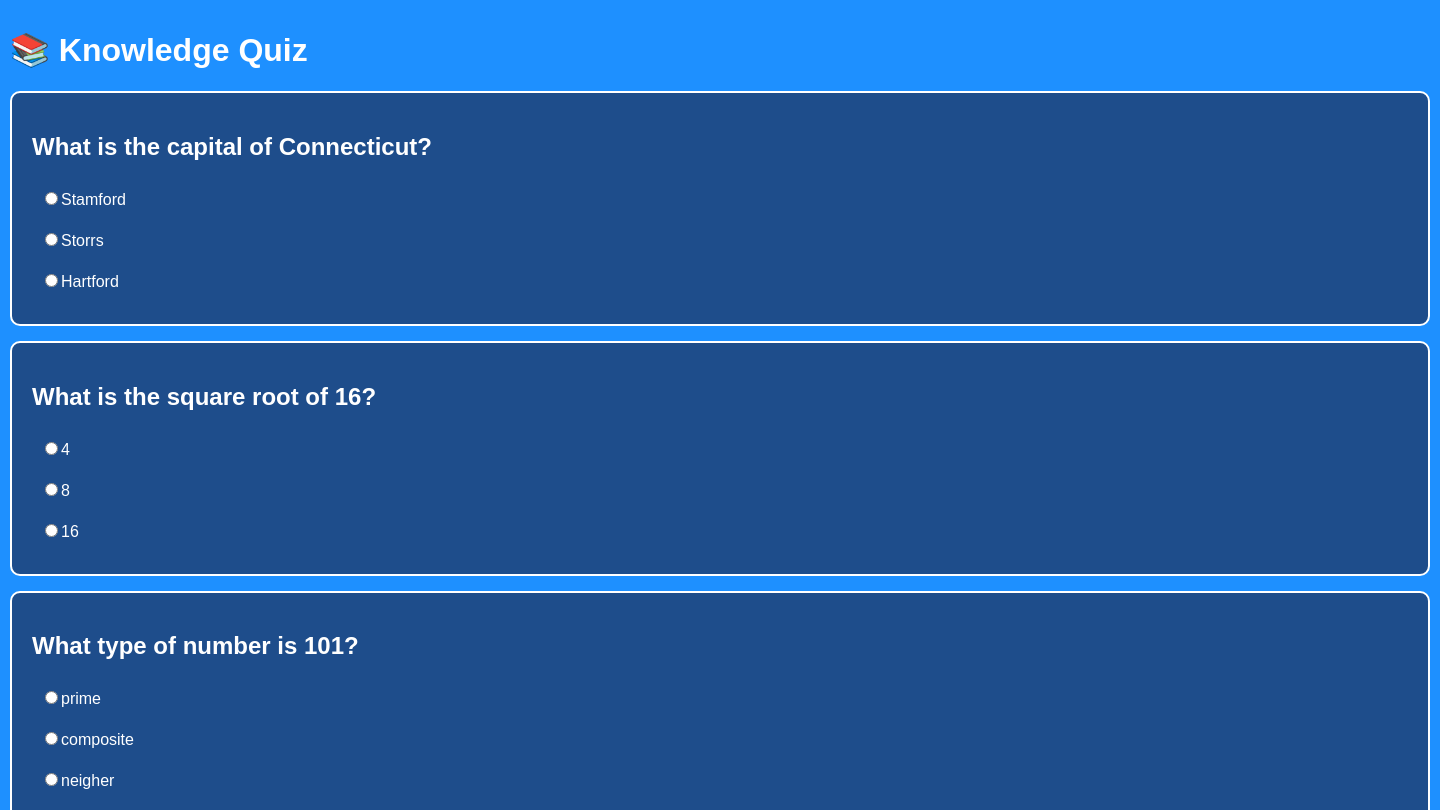
Test: Quiz Component › submit button enabled after answering all questions
# Answer question 1 (Hartford - index 2)
Step 1. Click the radio button labelled "Hartford" → (52, 280), box [45,274,58,287]
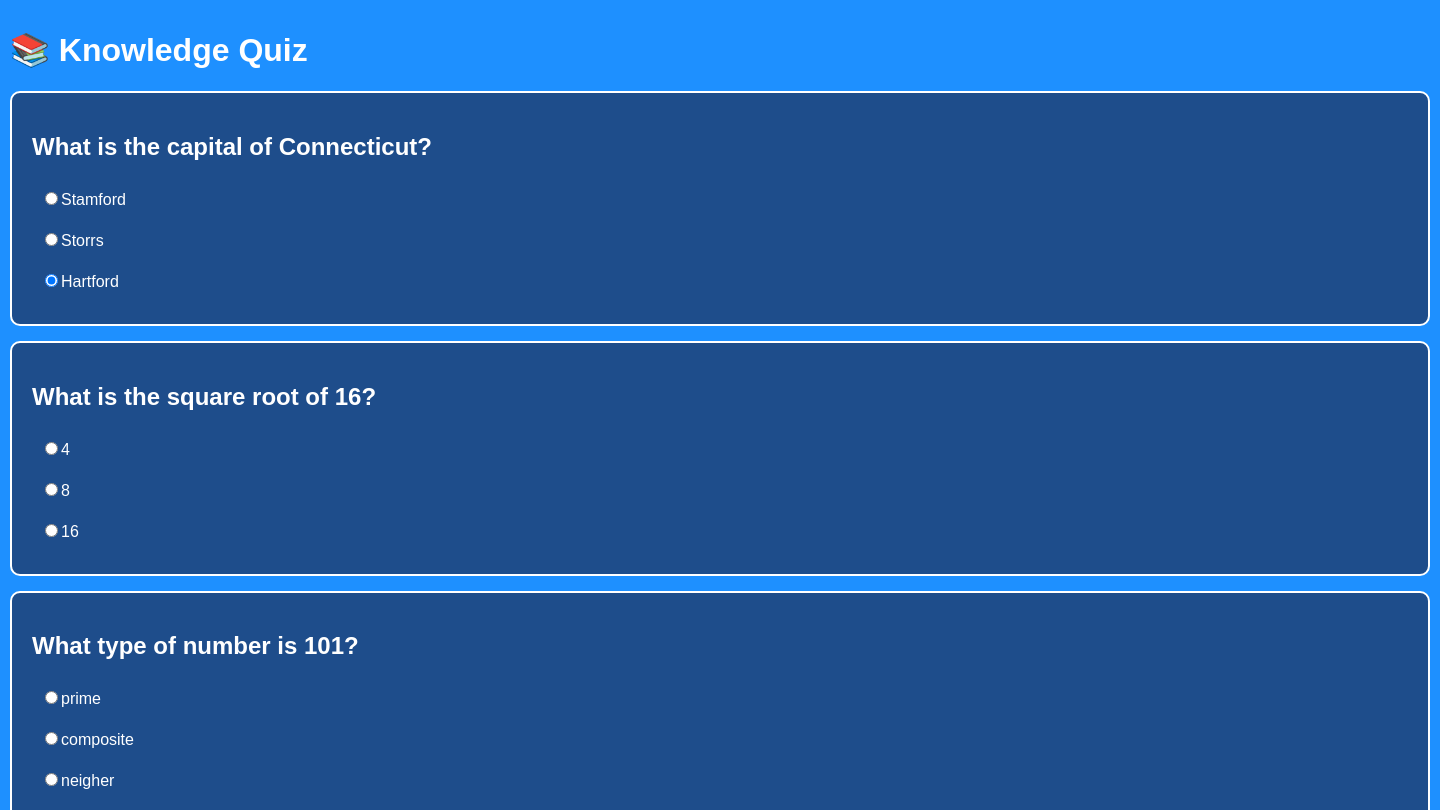
# Answer question 2 (4 - index 3)
Step 2. Click the radio button labelled "4" → (52, 448), box [45,442,58,454]
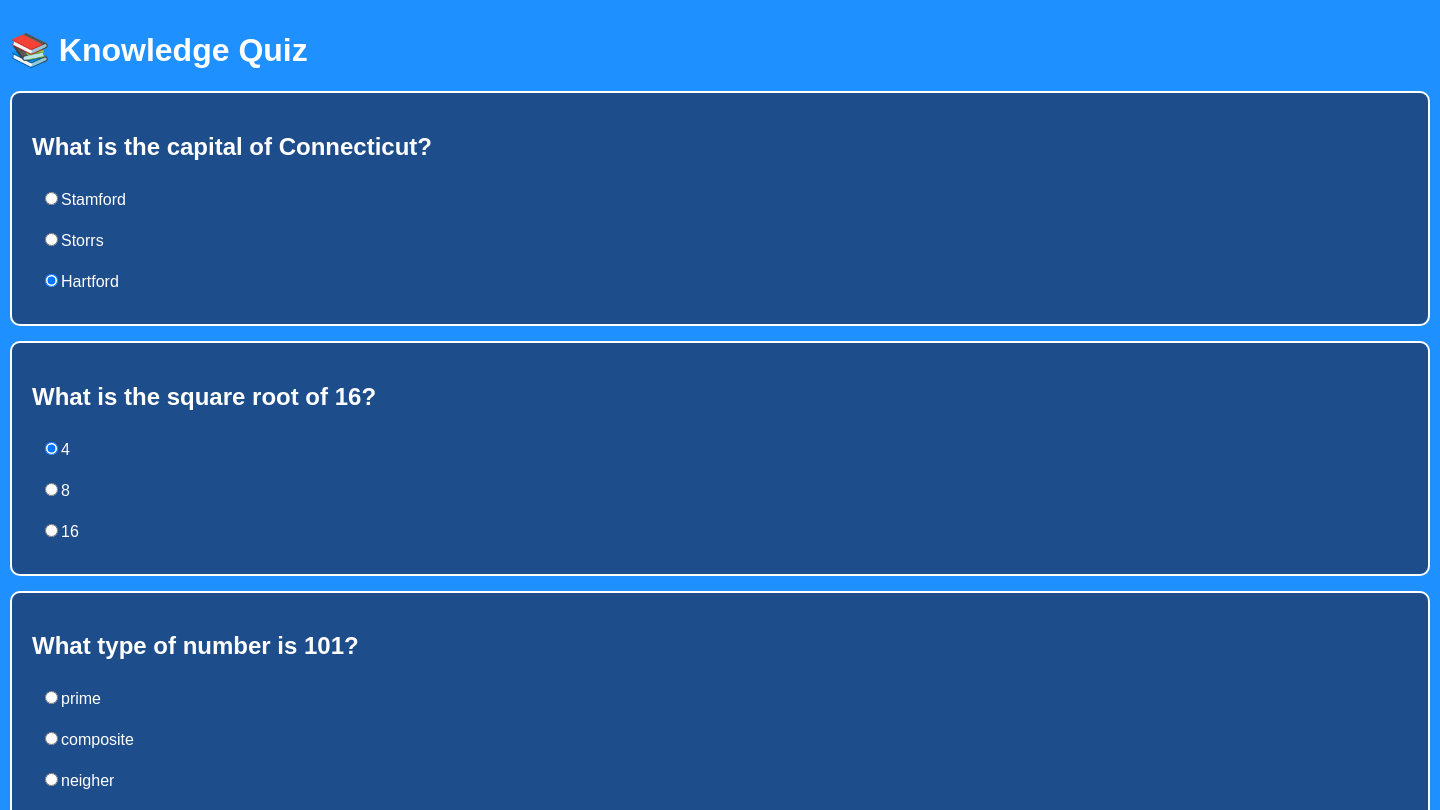
# Answer question 3 (prime - index 6)
Step 3. Click the radio button labelled "prime" → (52, 698), box [45,691,58,704]
(page scrolled)
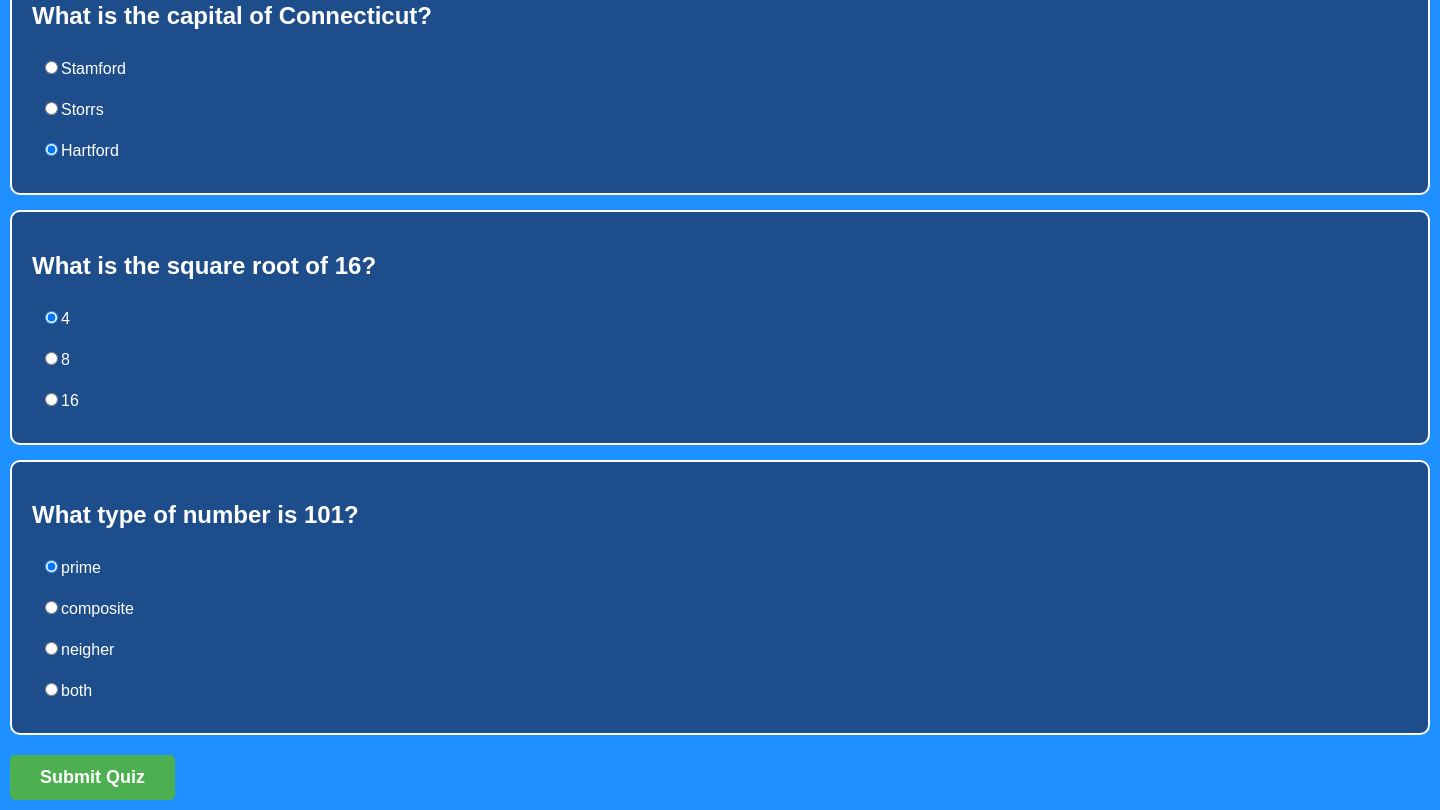
Expected: the button "Submit Quiz" is enabled, [10,755,175,800]
